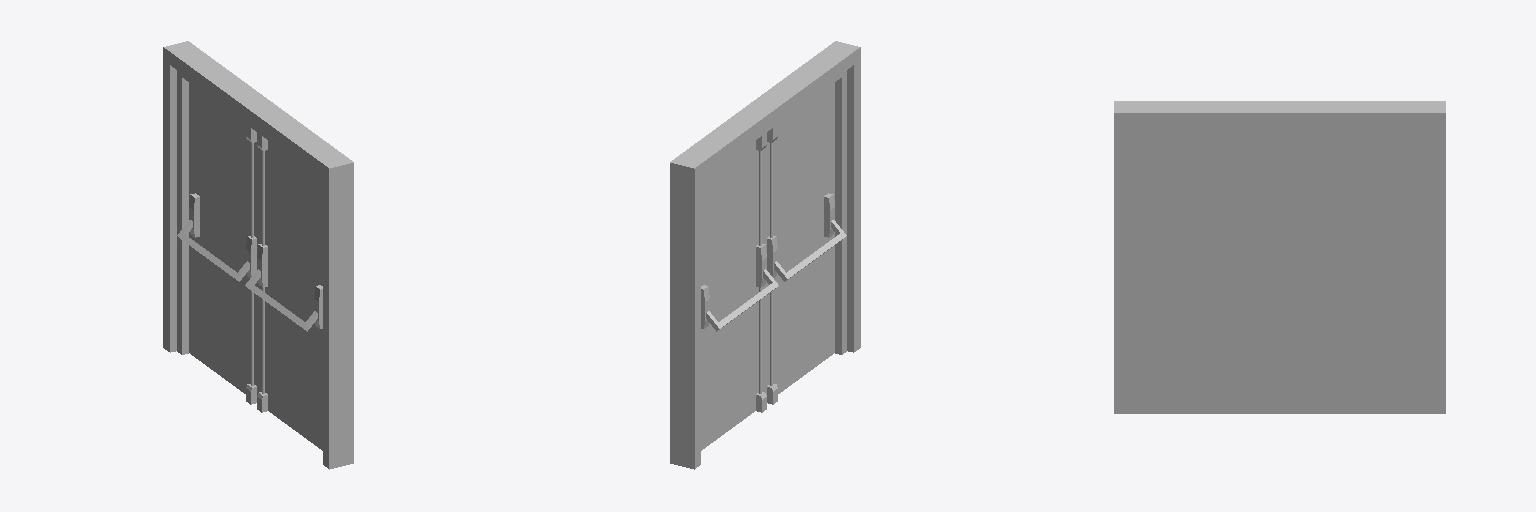
The model's file is puerta_cerrada.obj.
The picture shows the model from 3 angles: view 1: azimuth 30°, elevation 25°; view 2: azimuth 150°, elevation 25°; view 3: azimuth 270°, elevation 25°; orthographic projection.
Visible parts, largest first — view 1: pCube407; view 2: pCube407; view 3: pCube407.
Part boxes in pixels (bbox=[...]): pCube407: bbox=[163, 41, 353, 469]; pCube407: bbox=[670, 41, 860, 469]; pCube407: bbox=[1114, 101, 1445, 413].
Bounding box in the file's own units: 0.2148 × 2 × 2.